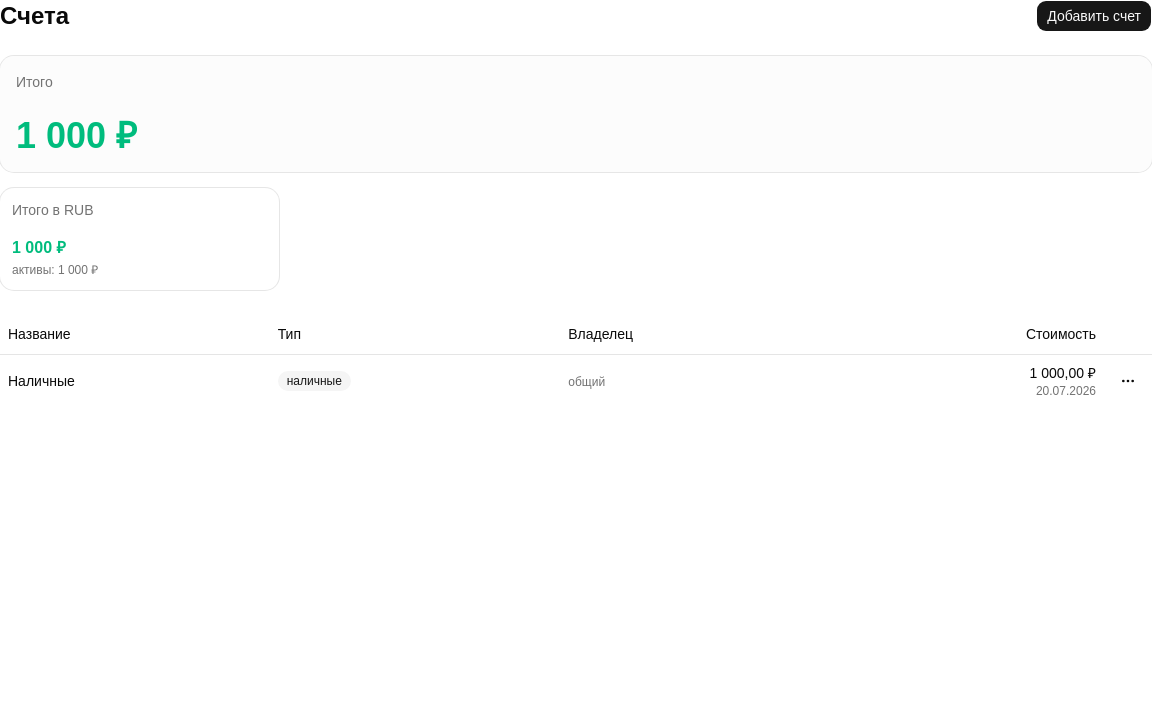
Test case: AccountsPage — an archive the server refused › says it in Russian and does not repeat the server's own words
Press Enter in the button named "Действия", box [1112, 364, 1144, 396]
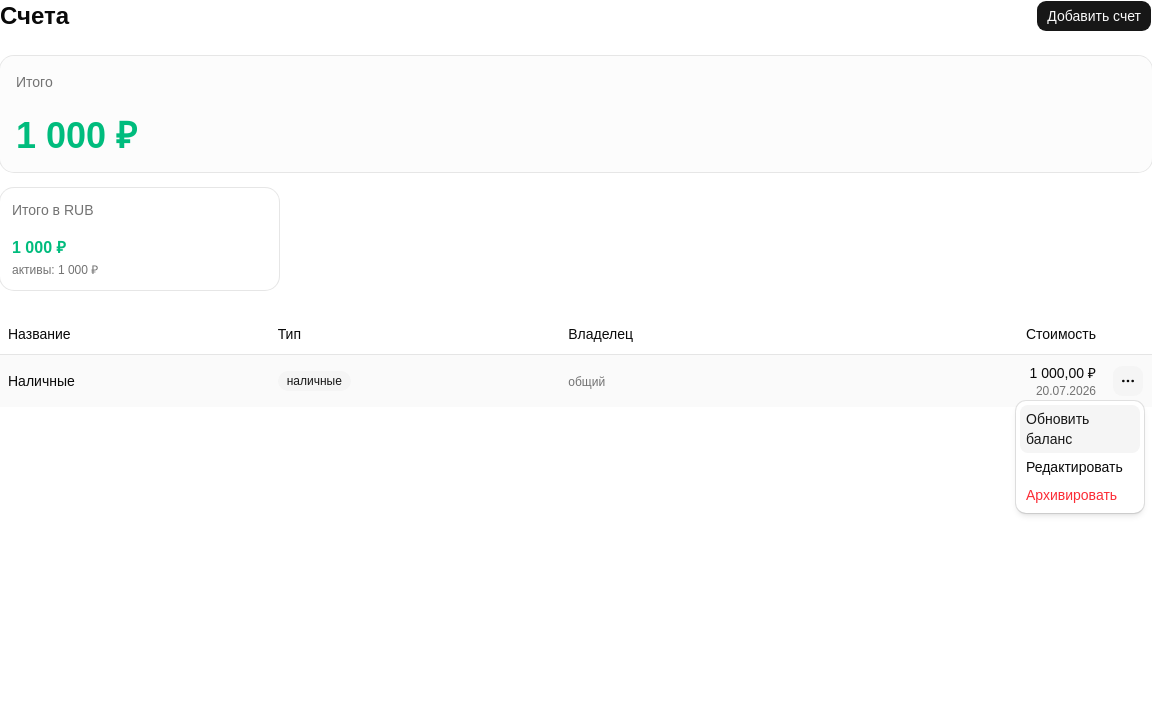
Click the menu item "Архивировать".
click(1072, 495)  # box [1026, 487, 1117, 503]
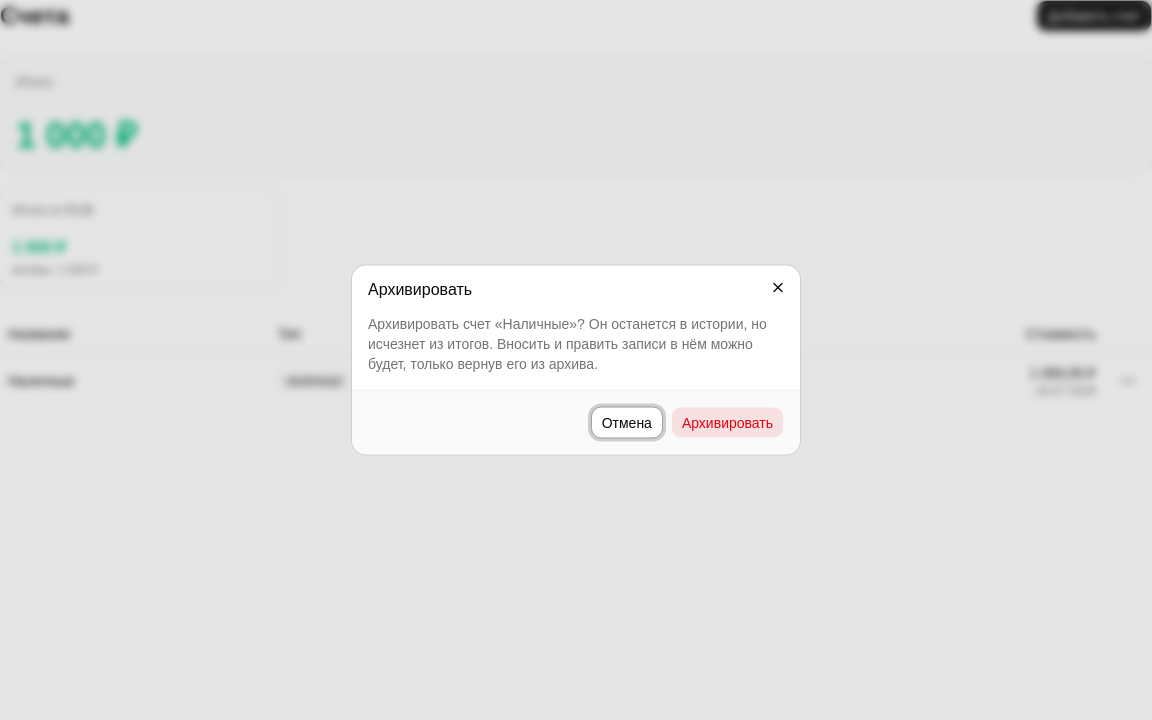
Click the button "Архивировать".
click(727, 422)  # box [671, 406, 784, 438]
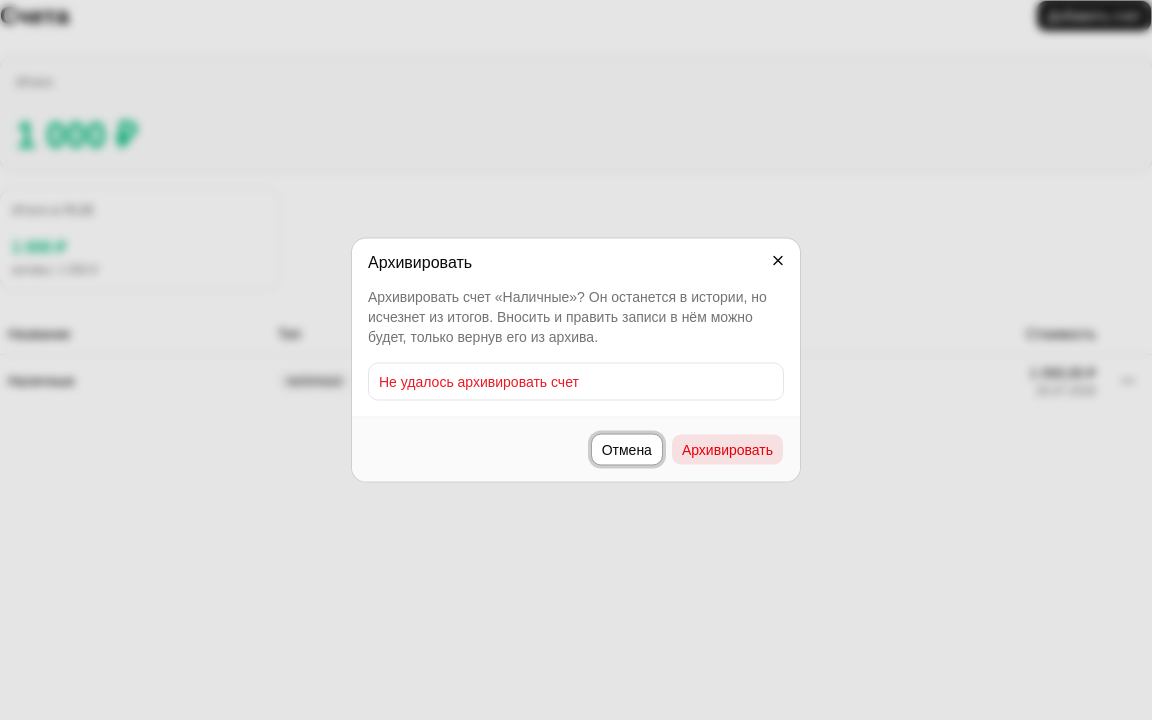
Result: the text "Не удалось архивировать счет" is shown at [379, 374, 579, 390]
